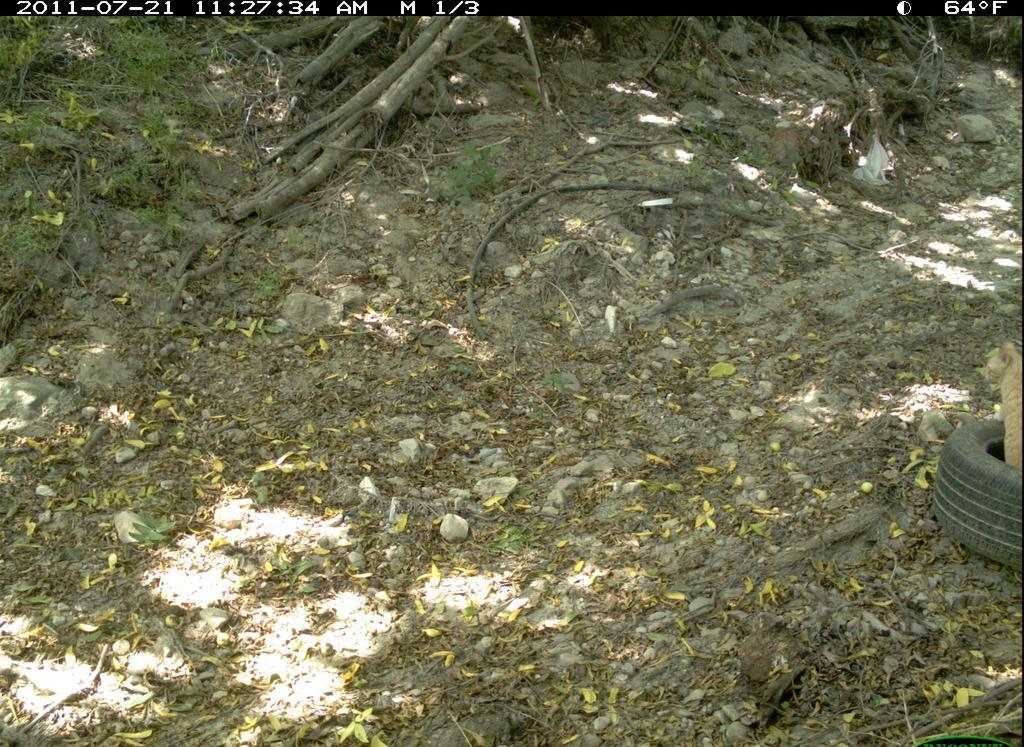cat: (980, 331, 1023, 481)
